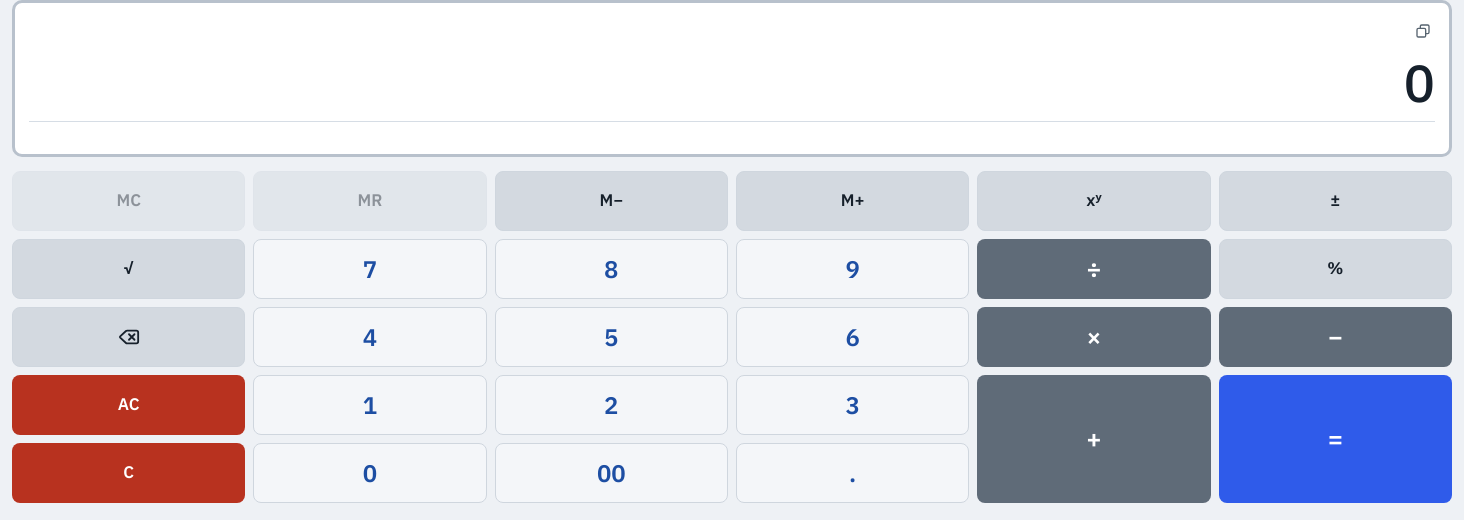
Scenario: Calculator › explains when the browser blocks copying
Click the button named "Copy the number" at (1423, 31), box [1401,9,1445,53]
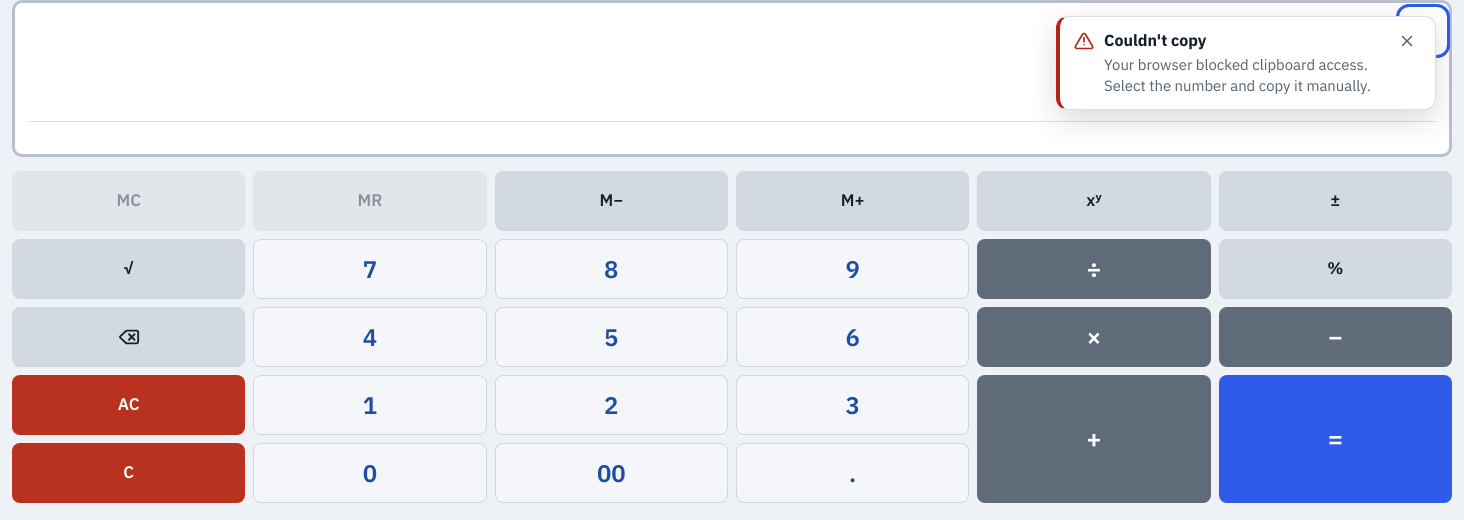
Check: the message shows "Couldn't copy", box [1104,30,1206,50]
